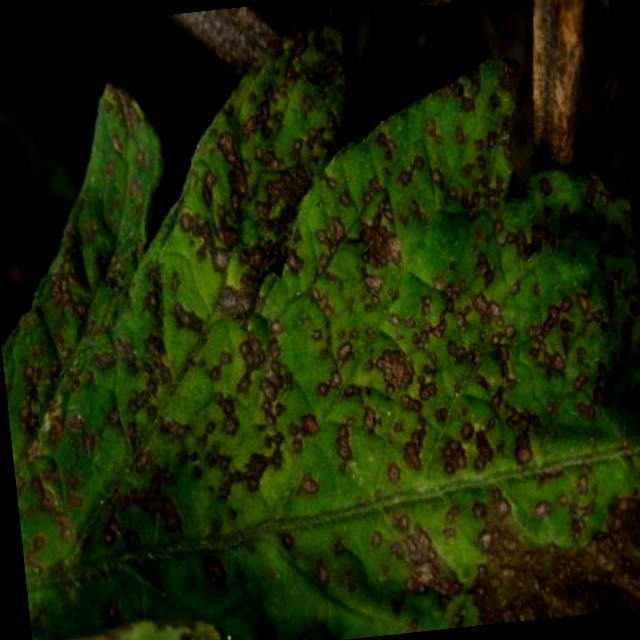Bacterial: (56, 201, 539, 640)
